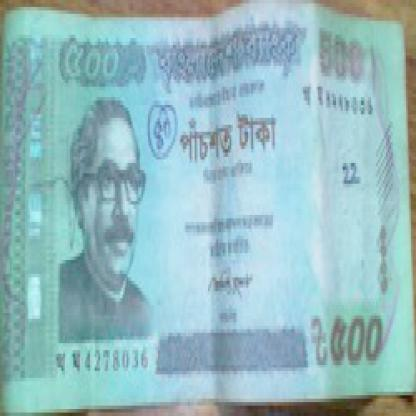500 taka: (175, 118, 294, 170), (62, 35, 146, 100)
currency: (1, 7, 413, 399)
